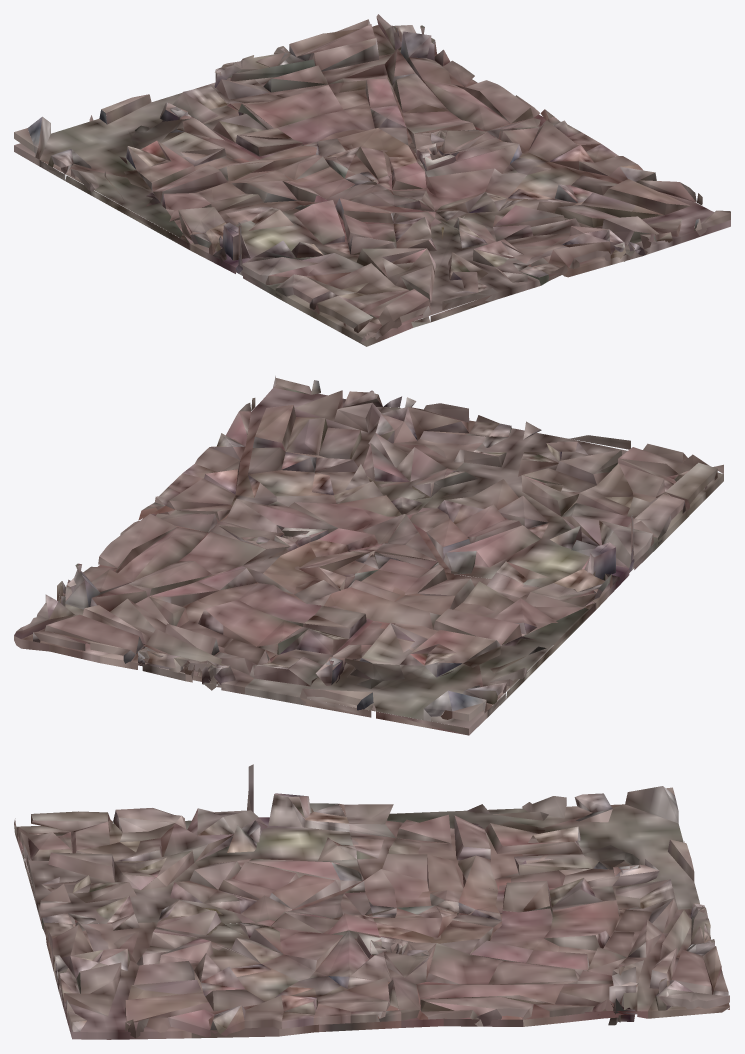
3 views of the same model, one above another, from view 1: azimuth 30°, elevation 25°; view 2: azimuth 150°, elevation 25°; view 3: azimuth 270°, elevation 25° (orthographic). The views are drawn at different scales.
Parts seen in each view (by area): view 1: Mesh_0; view 2: Mesh_0; view 3: Mesh_0.
Part boxes in pixels (x1,y1,x2,y2): Mesh_0: (14, 14, 730, 346); Mesh_0: (14, 376, 723, 735); Mesh_0: (14, 764, 729, 1039).
Bounding box in the file's own units: 1065 × 138 × 1321.
2 materials, 2 textured.
